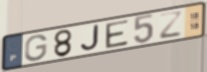5: (133, 12, 155, 45)
8: (53, 28, 74, 58)
E: (104, 18, 130, 50)
G: (23, 33, 49, 62)
J: (79, 23, 100, 53)
Z: (158, 10, 184, 41)
